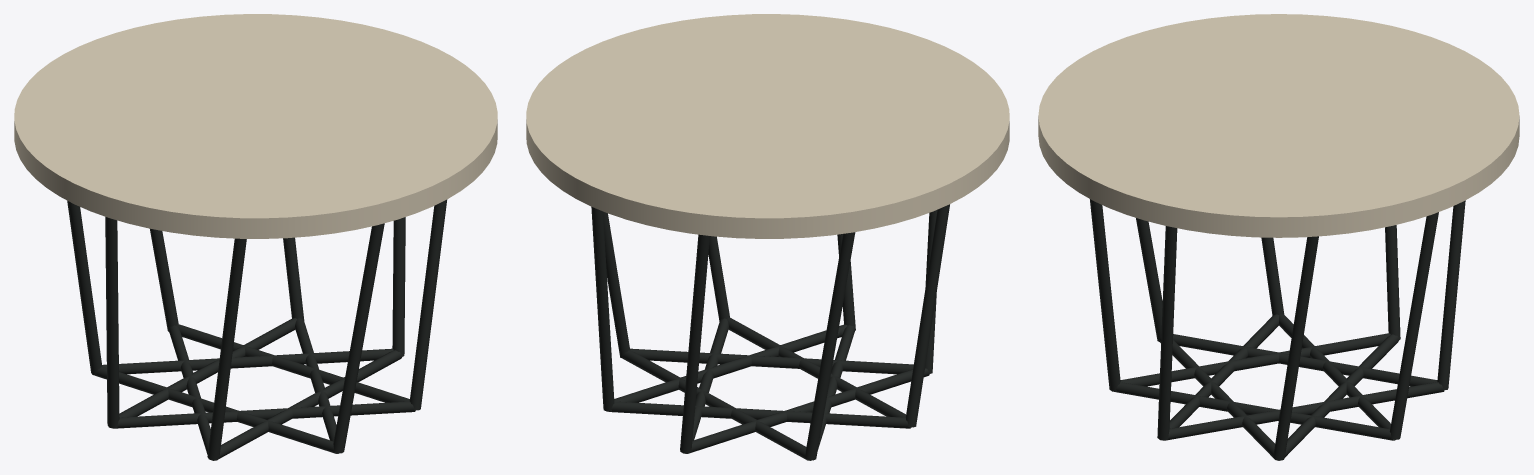
Rendered from wh-round-marble-dining-table.glb.
3 views of the same model, side by side, from view 1: azimuth 30°, elevation 25°; view 2: azimuth 150°, elevation 25°; view 3: azimuth 270°, elevation 25° (orthographic).
Parts seen in each view (by area): view 1: Round or oval tabletop.012, Geometric splayed leg.008; view 2: Round or oval tabletop.012, Geometric splayed leg.008; view 3: Round or oval tabletop.012, Geometric splayed leg.008.
Part boxes in pixels (<box>): Round or oval tabletop.012: <box>14,14,497,238</box>; Geometric splayed leg.008: <box>67,199,447,460</box>; Round or oval tabletop.012: <box>526,14,1009,238</box>; Geometric splayed leg.008: <box>591,204,949,460</box>; Round or oval tabletop.012: <box>1038,14,1519,237</box>; Geometric splayed leg.008: <box>1090,199,1465,460</box>.
Bounding box in the file's own units: 1.2 × 0.76 × 1.2.
